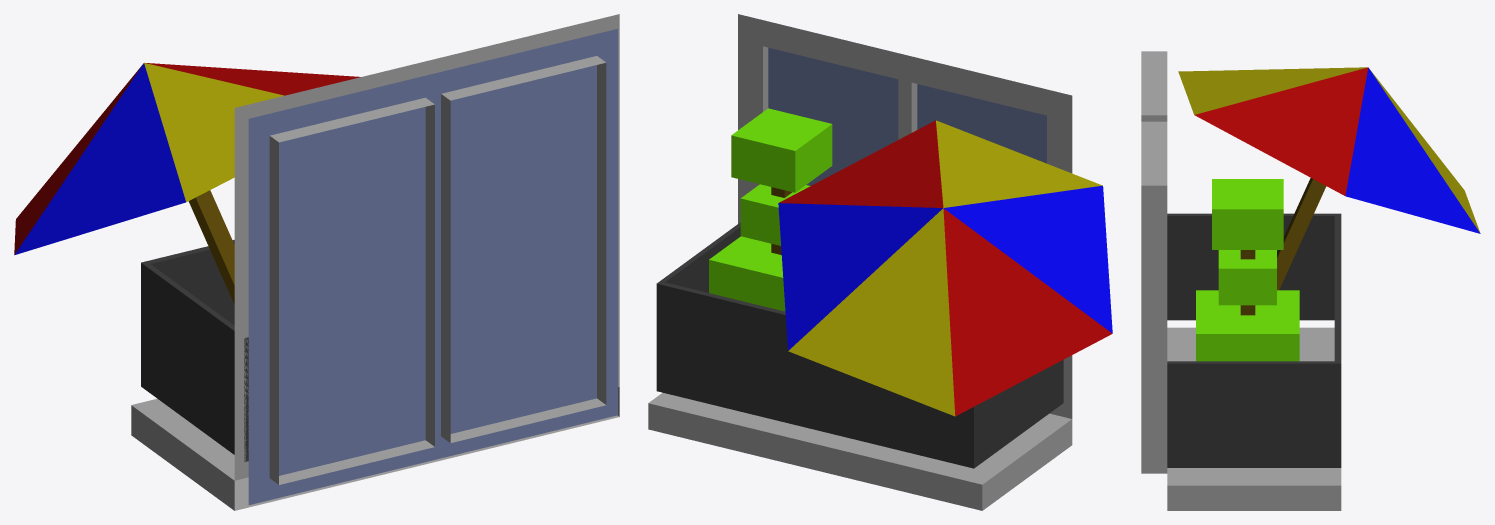
The model's file is BalconyUmberellaPlant.fbx.
3 renders of one model, left to right at view 1: azimuth 30°, elevation 25°; view 2: azimuth 150°, elevation 25°; view 3: azimuth 270°, elevation 25°, orthographic. The views are drawn at different scales.
Parts seen in each view (by area): view 1: BalconyUmberellaPlant; view 2: BalconyUmberellaPlant; view 3: BalconyUmberellaPlant.
Part boxes in pixels (x1,y1,x2,y2): BalconyUmberellaPlant: (14,14,619,510); BalconyUmberellaPlant: (648,14,1112,510); BalconyUmberellaPlant: (1141,51,1480,510).
Bounding box in the file's own units: 1.35 × 1 × 0.9076.
